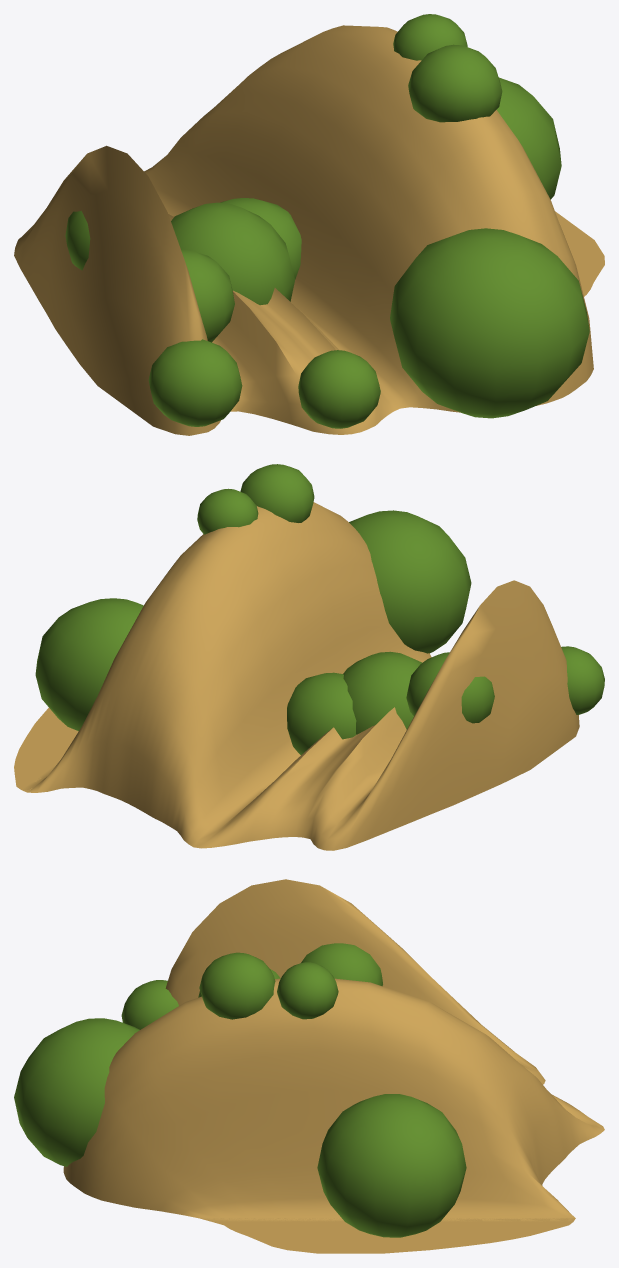
The model's file is gleba-spawner.glb.
The picture shows the model from 3 angles, top to bottom: view 1: azimuth 30°, elevation 25°; view 2: azimuth 150°, elevation 25°; view 3: azimuth 270°, elevation 25°; orthographic projection. The views are drawn at different scales.
Parts seen in each view (by area): view 1: body; view 2: body; view 3: body.
Part boxes in pixels (bbox=[...]): body: bbox=[14, 14, 604, 435]; body: bbox=[14, 464, 604, 850]; body: bbox=[14, 879, 604, 1253].
Size of the model in its own units: 3.79 by 1.91 by 4.41.
